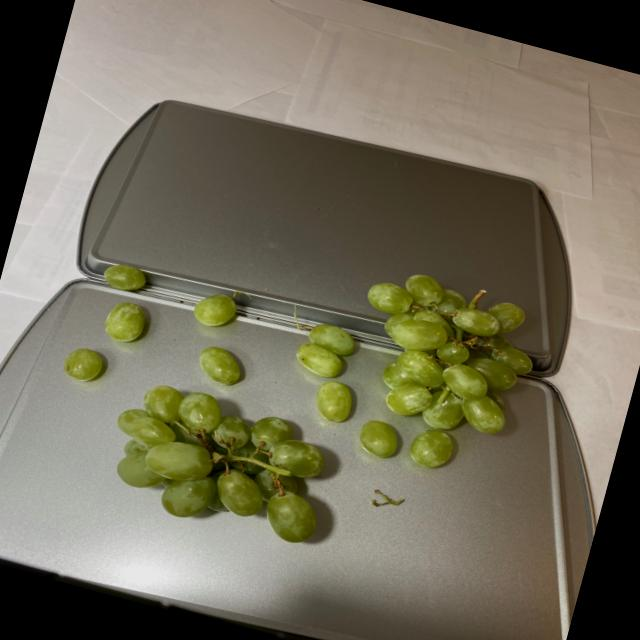grapes: (34, 192, 548, 590)
